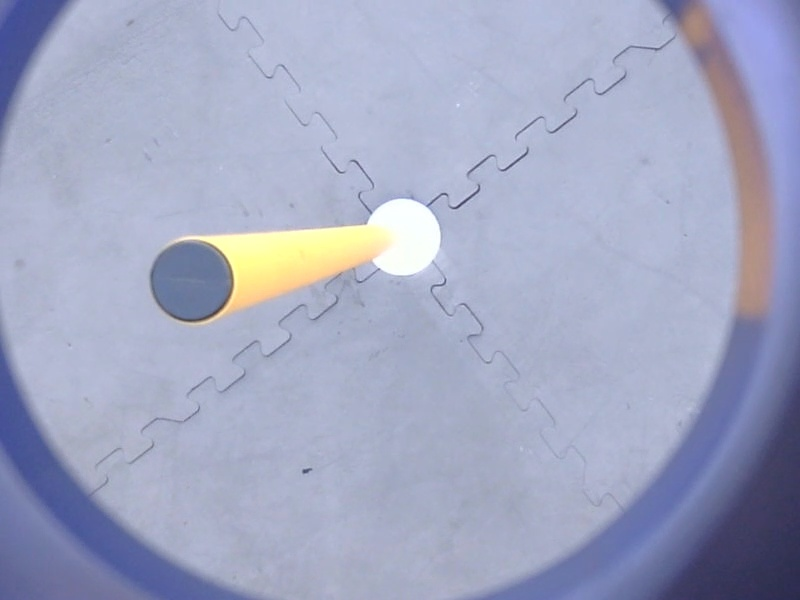tip: (143, 231, 246, 332)
